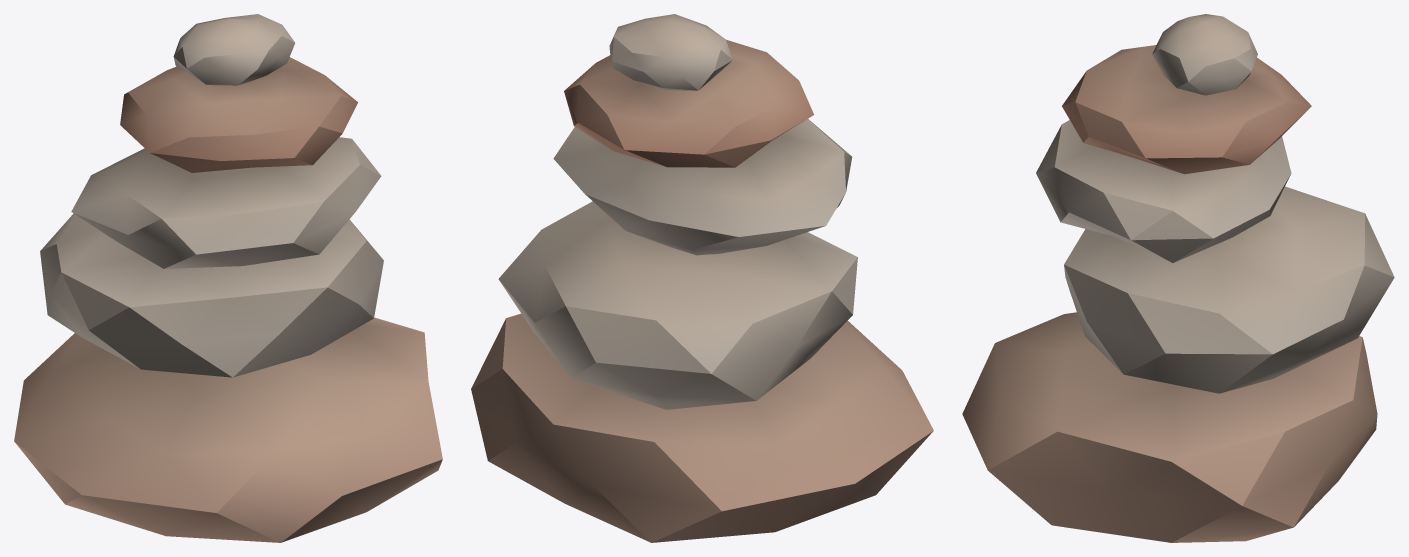
The model's file is cairn_small.glb.
3 views of the same model, side by side, from view 1: azimuth 30°, elevation 25°; view 2: azimuth 150°, elevation 25°; view 3: azimuth 270°, elevation 25° (orthographic). The views are drawn at different scales.
Visible parts, largest first — view 1: cairn_small; view 2: cairn_small; view 3: cairn_small.
Boxes of the visible parts, x1,y1,x2,y2 form: cairn_small: [14, 14, 442, 542]; cairn_small: [471, 14, 933, 542]; cairn_small: [962, 14, 1394, 542].
Size of the model in its own units: 1.09 by 1.3 by 1.05.
